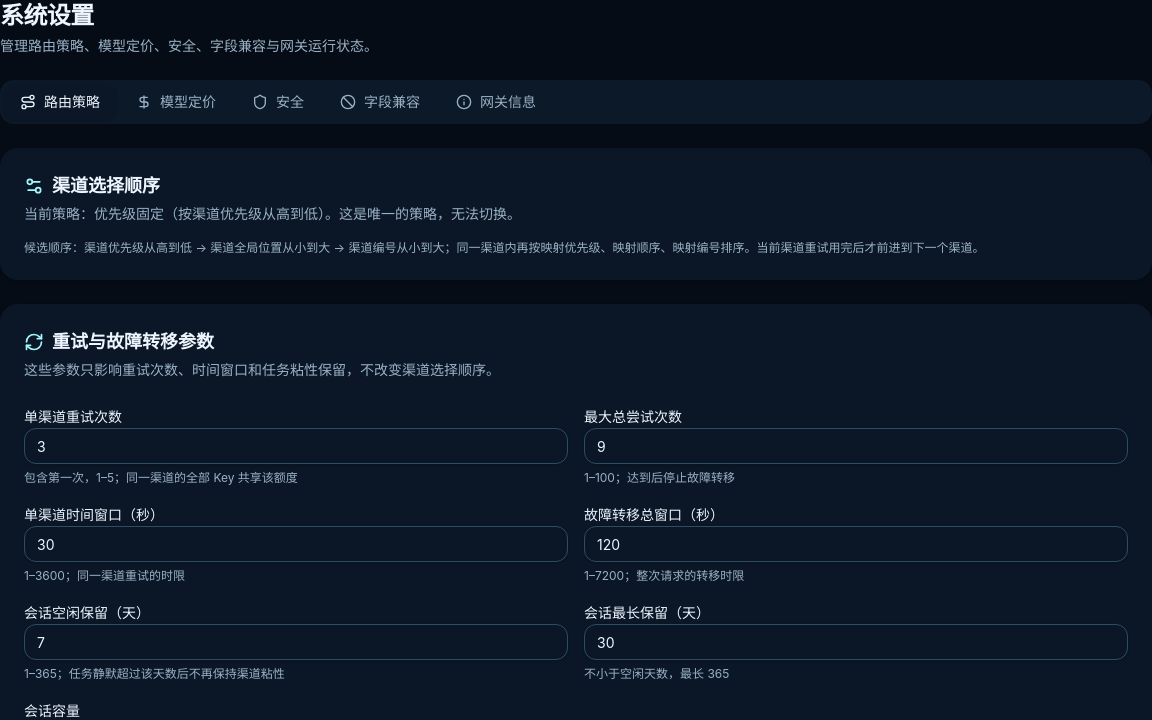
Test: field compatibility settings › loads the audit only after its settings tab is opened
Expected: the number field labelled "单渠道重试次数" is shown, top-left (24, 428), bottom-right (568, 464)
Click the button "字段兼容". click: (380, 102)
box: top-left (324, 84), bottom-right (436, 120)
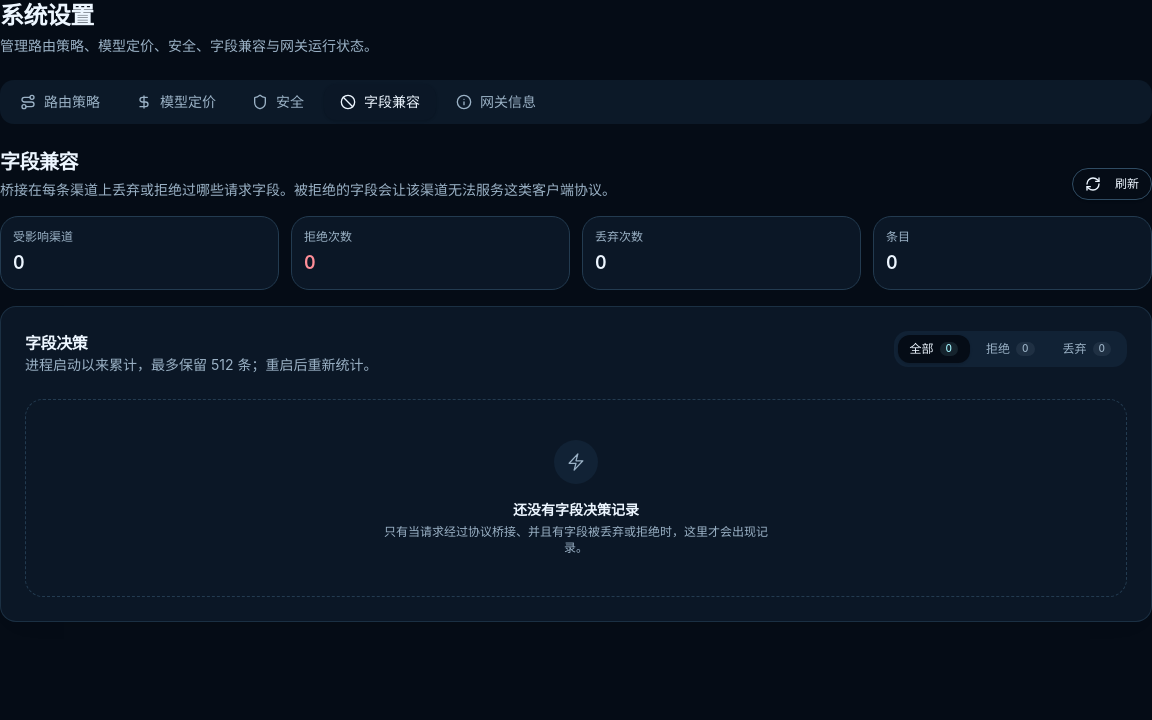
Expected: the text "还没有字段决策记录" is shown, top-left (513, 500), bottom-right (639, 520)
Expected: the label labelled "单渠道重试次数" is gone
